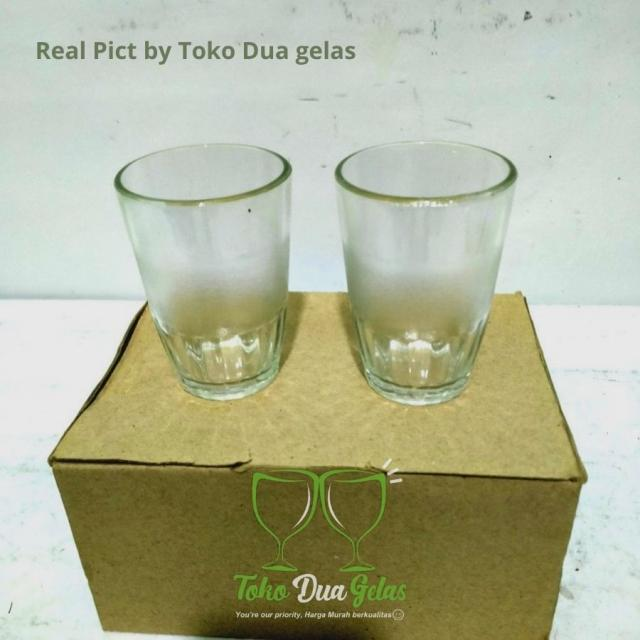Gelas: (101, 123, 306, 407), (332, 134, 528, 406)
